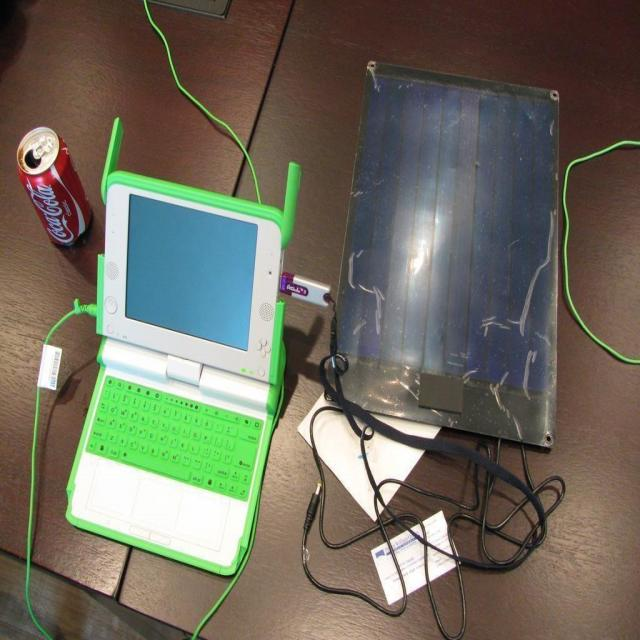tin can: (15, 128, 96, 250)
